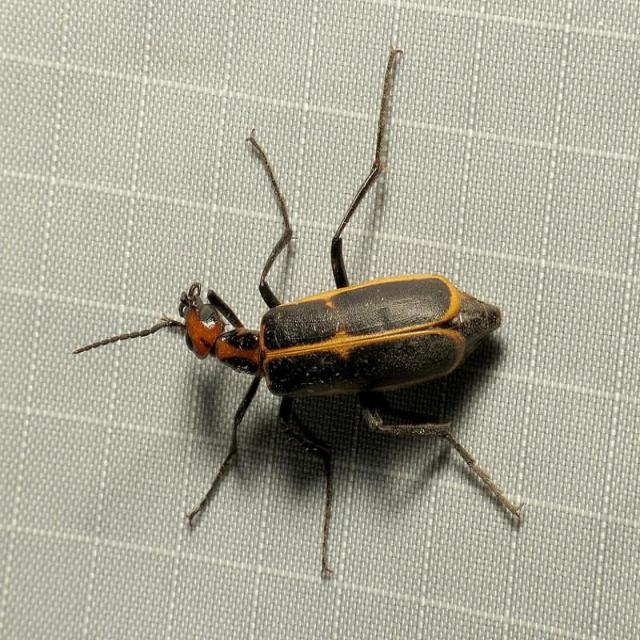BlisterBeetle-Adult-: (83, 48, 523, 566)
